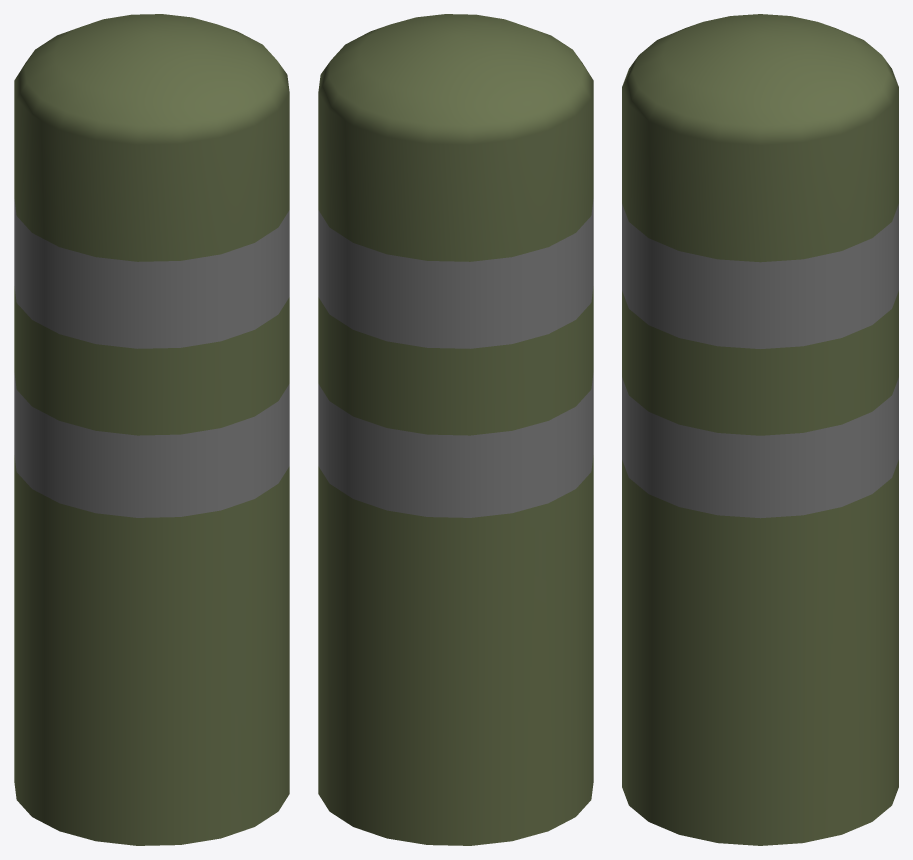
The model's file is traffic-post-k71.glb.
3 views of the same model, side by side, from view 1: azimuth 30°, elevation 25°; view 2: azimuth 150°, elevation 25°; view 3: azimuth 270°, elevation 25° (orthographic).
Visible parts, largest first — view 1: traffic-post-k71; view 2: traffic-post-k71; view 3: traffic-post-k71.
Boxes of the visible parts, x1=… form: traffic-post-k71: x1=14, y1=14, x2=289, y2=845; traffic-post-k71: x1=318, y1=14, x2=593, y2=845; traffic-post-k71: x1=622, y1=14, x2=898, y2=845.
Size of the model in its own units: 0.3145 by 0.9429 by 0.3145.
1 material, 1 textured.
